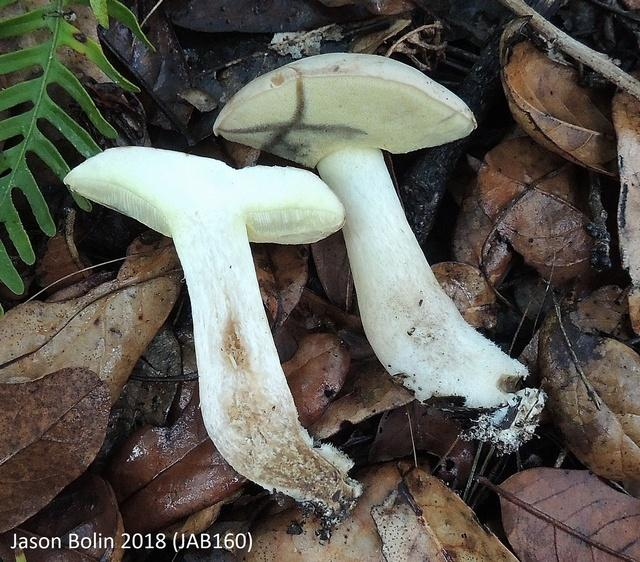Edible Mushroom: (211, 50, 530, 413), (62, 142, 363, 522)
